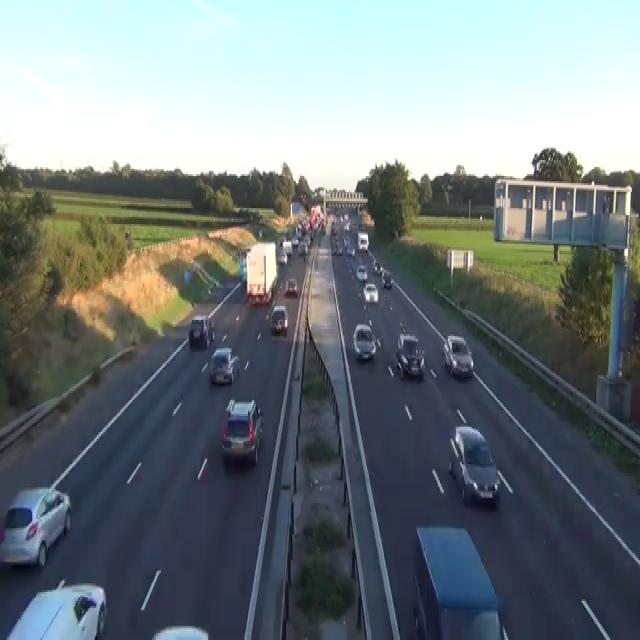Car: (5, 576, 107, 638), (0, 485, 72, 567), (448, 425, 500, 505), (220, 398, 263, 464), (442, 334, 474, 379), (395, 332, 425, 378), (209, 347, 239, 384), (352, 323, 376, 361), (188, 314, 214, 348), (151, 624, 209, 638), (270, 304, 288, 336), (183, 263, 196, 285), (363, 283, 378, 302), (284, 277, 297, 297), (356, 263, 367, 281), (381, 270, 392, 288), (239, 258, 246, 282), (373, 260, 383, 276), (332, 242, 342, 256), (277, 251, 287, 263), (346, 244, 355, 256), (297, 242, 306, 254), (183, 268, 190, 282), (330, 222, 337, 235), (291, 237, 299, 247), (304, 235, 311, 245), (278, 237, 285, 246), (372, 260, 378, 270), (379, 265, 384, 275), (258, 228, 262, 238)
Truck: (412, 524, 509, 638), (245, 240, 276, 304), (356, 231, 369, 251), (290, 201, 299, 217)
